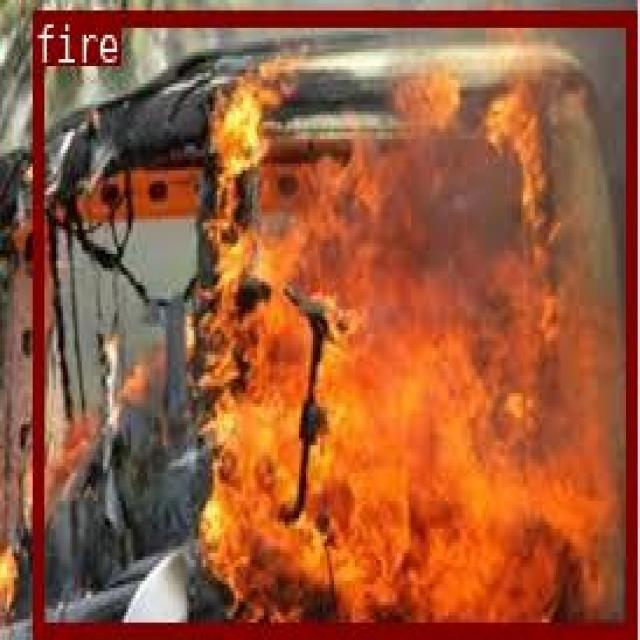fire: (31, 8, 633, 633)
